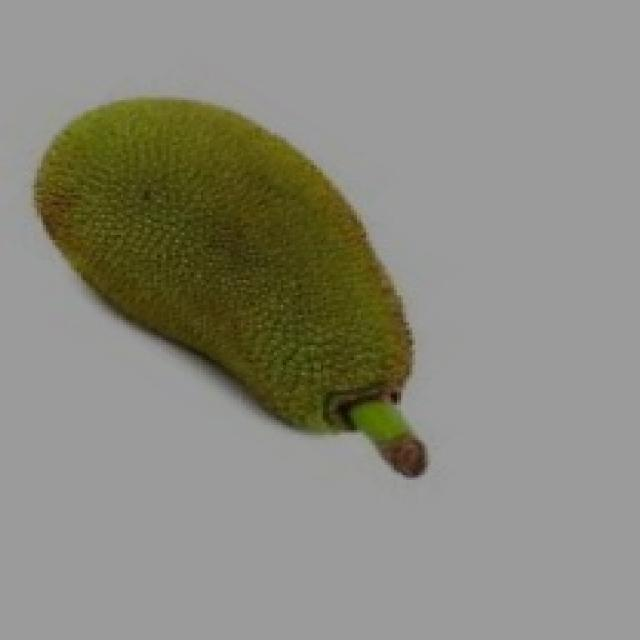Fruit: (9, 75, 437, 460)
